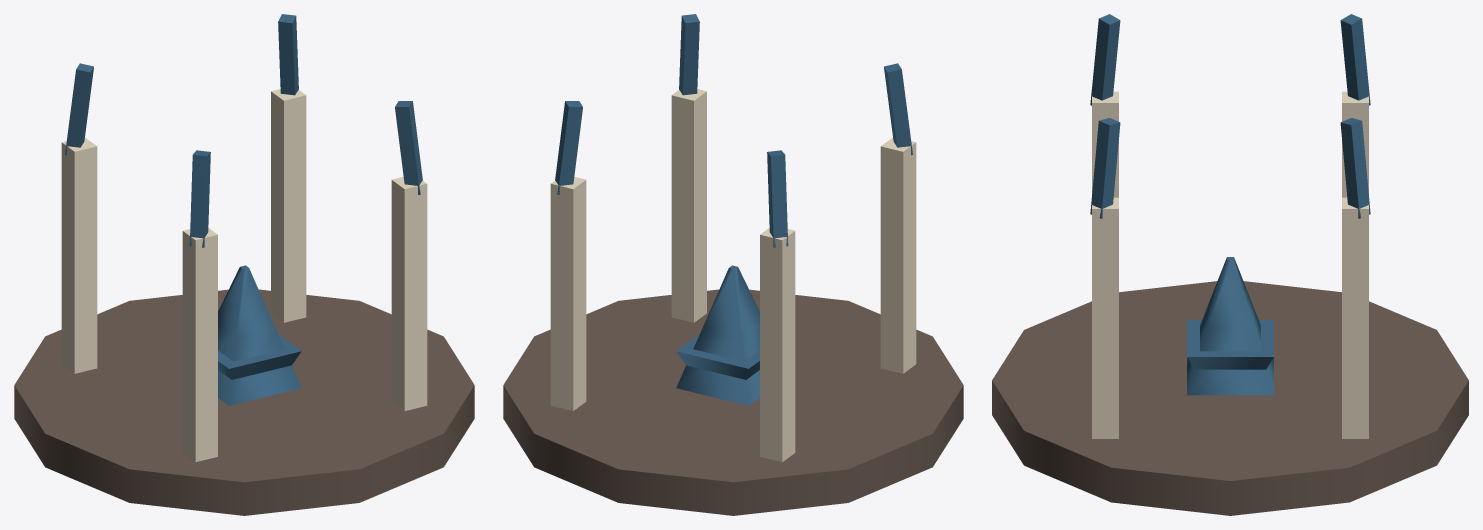
The model's file is hu_shan_jian_zhen.glb.
3 views of the same model, side by side, from view 1: azimuth 30°, elevation 25°; view 2: azimuth 150°, elevation 25°; view 3: azimuth 270°, elevation 25° (orthographic). The views are drawn at different scales.
Parts seen in each view (by area): view 1: _MeshInstance3D_106, _MeshInstance3D_111, _MeshInstance3D_107, _MeshInstance3D_113, _MeshInstance3D_109, _MeshInstance3D_115, _MeshInstance3D_110, _MeshInstance3D_108, _MeshInstance3D_116, _MeshInstance3D_112, _MeshInstance3D_114; view 2: _MeshInstance3D_106, _MeshInstance3D_109, _MeshInstance3D_113, _MeshInstance3D_107, _MeshInstance3D_111, _MeshInstance3D_115, _MeshInstance3D_112, _MeshInstance3D_114, _MeshInstance3D_116, _MeshInstance3D_110, _MeshInstance3D_108; view 3: _MeshInstance3D_106, _MeshInstance3D_115, _MeshInstance3D_107, _MeshInstance3D_113, _MeshInstance3D_116, _MeshInstance3D_108, _MeshInstance3D_114, _MeshInstance3D_110, _MeshInstance3D_112, _MeshInstance3D_109, _MeshInstance3D_111.
Boxes of the visible parts, <box> form: _MeshInstance3D_106: <box>14,289,474,515</box>; _MeshInstance3D_111: <box>61,137,97,373</box>; _MeshInstance3D_107: <box>391,177,427,410</box>; _MeshInstance3D_113: <box>271,89,306,322</box>; _MeshInstance3D_109: <box>182,228,217,462</box>; _MeshInstance3D_115: <box>218,265,301,405</box>; _MeshInstance3D_110: <box>189,150,210,247</box>; _MeshInstance3D_108: <box>395,101,422,194</box>; _MeshInstance3D_116: <box>218,334,301,379</box>; _MeshInstance3D_112: <box>65,63,93,155</box>; _MeshInstance3D_114: <box>278,14,298,95</box>; _MeshInstance3D_106: <box>503,289,963,515</box>; _MeshInstance3D_109: <box>880,137,916,373</box>; _MeshInstance3D_113: <box>550,177,586,410</box>; _MeshInstance3D_107: <box>671,89,706,322</box>; _MeshInstance3D_111: <box>760,228,795,462</box>; _MeshInstance3D_115: <box>676,265,759,405</box>; _MeshInstance3D_112: <box>767,150,788,247</box>; _MeshInstance3D_114: <box>555,101,582,194</box>; _MeshInstance3D_116: <box>676,334,759,379</box>; _MeshInstance3D_110: <box>884,63,912,155</box>; _MeshInstance3D_108: <box>679,14,699,95</box>; _MeshInstance3D_106: <box>992,281,1468,515</box>; _MeshInstance3D_115: <box>1187,257,1273,395</box>; _MeshInstance3D_107: <box>1092,197,1118,438</box>; _MeshInstance3D_113: <box>1342,197,1368,438</box>; _MeshInstance3D_116: <box>1187,320,1273,369</box>; _MeshInstance3D_108: <box>1090,118,1120,218</box>; _MeshInstance3D_114: <box>1340,118,1370,218</box>; _MeshInstance3D_110: <box>1090,14,1120,105</box>; _MeshInstance3D_112: <box>1340,14,1370,105</box>; _MeshInstance3D_109: <box>1092,91,1118,197</box>; _MeshInstance3D_111: <box>1342,91,1368,197</box>.
Size of the model in its own units: 1.24 by 1.01 by 1.24.
